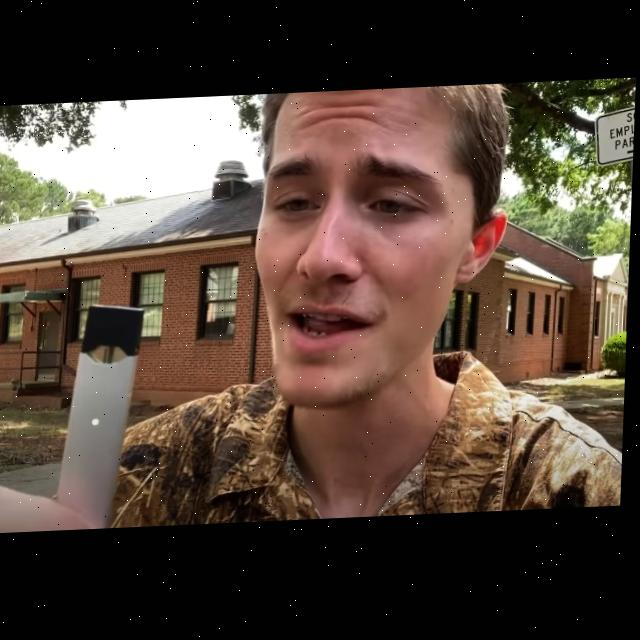vape: (59, 303, 146, 531)
